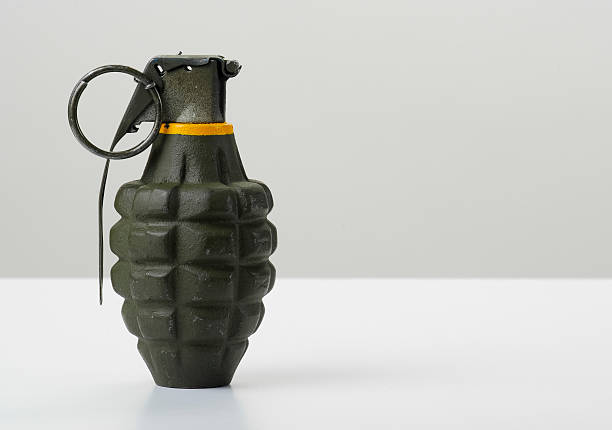e1: (68, 56, 277, 390)
